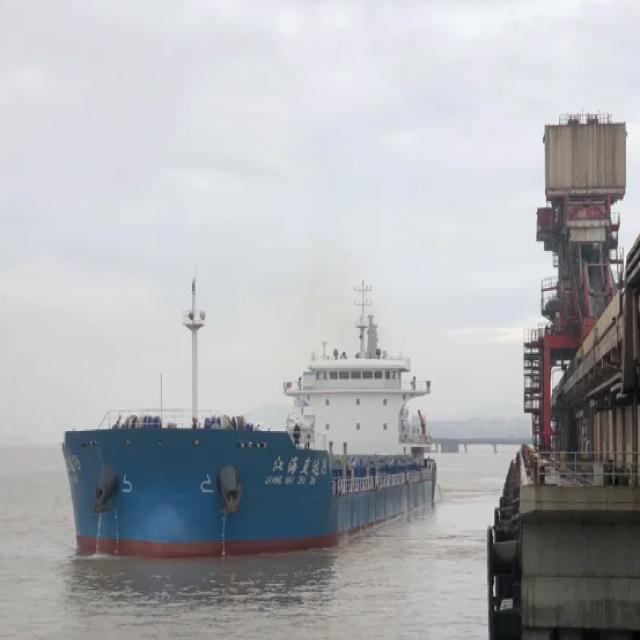cargoship: (53, 228, 458, 563)
